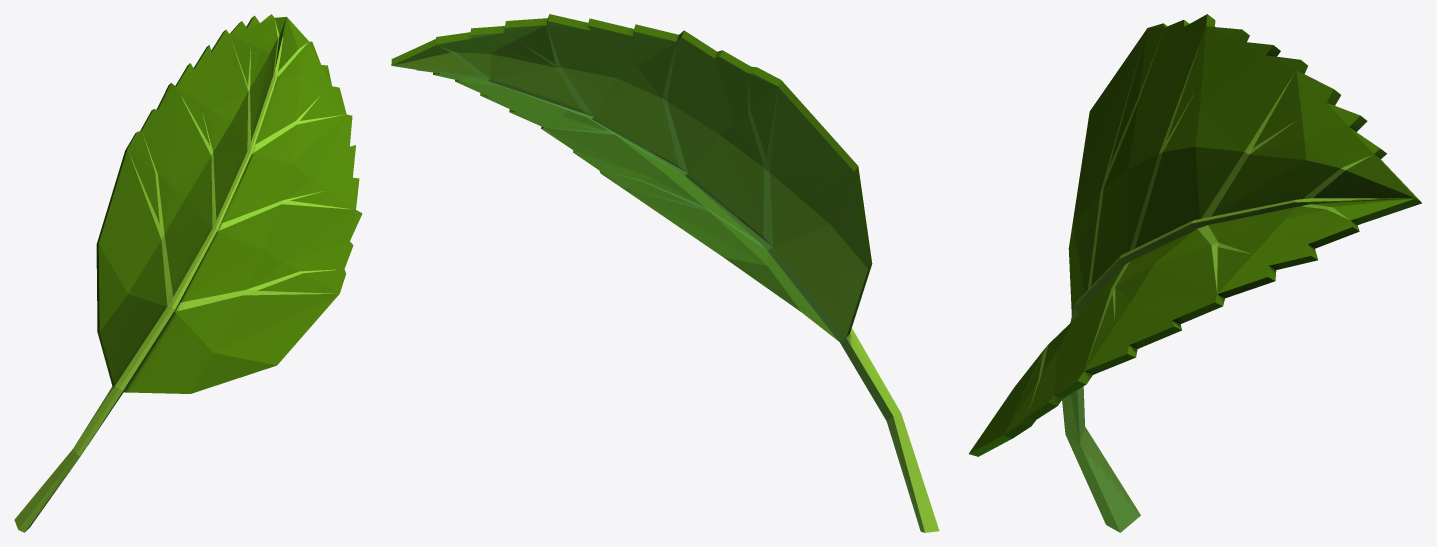
The model's file is leaf.glb.
3 renders of one model, left to right at view 1: azimuth 30°, elevation 25°; view 2: azimuth 150°, elevation 25°; view 3: azimuth 270°, elevation 25°, orthographic. The views are drawn at different scales.
Parts seen in each view (by area): view 1: leaf; view 2: leaf; view 3: leaf.
Part boxes in pixels (left/top/right/bottom): leaf: left=14, top=14, right=362, bottom=532; leaf: left=391, top=14, right=939, bottom=532; leaf: left=969, top=14, right=1421, bottom=532.
Bounding box in the file's own units: 1.45 × 1.5 × 0.9069.
Materials: 1 (1 with a texture image).
